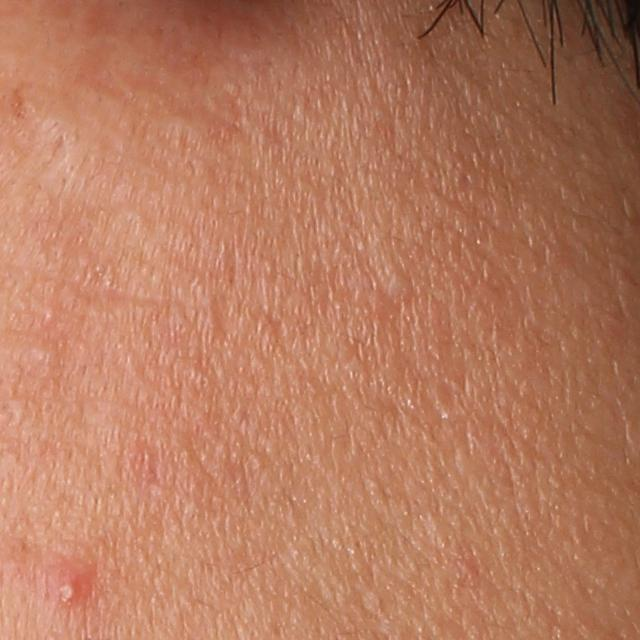comedo: (377, 263, 417, 303)
pustule: (51, 564, 85, 609)
